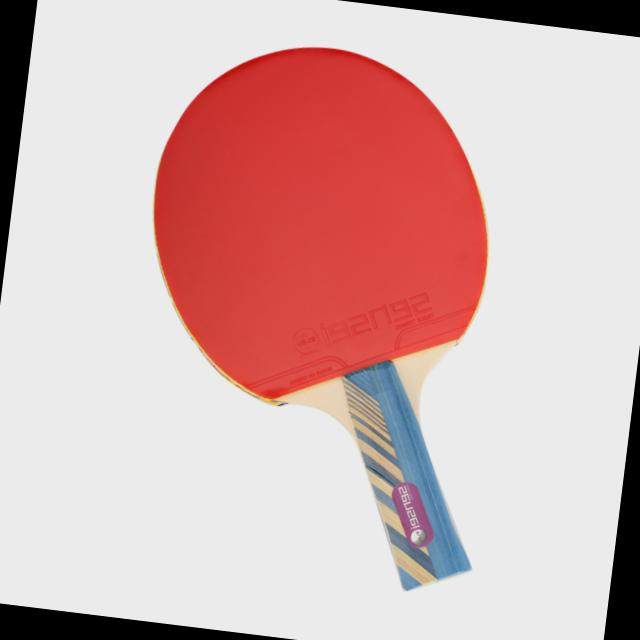TT Racket: (77, 0, 571, 508)
